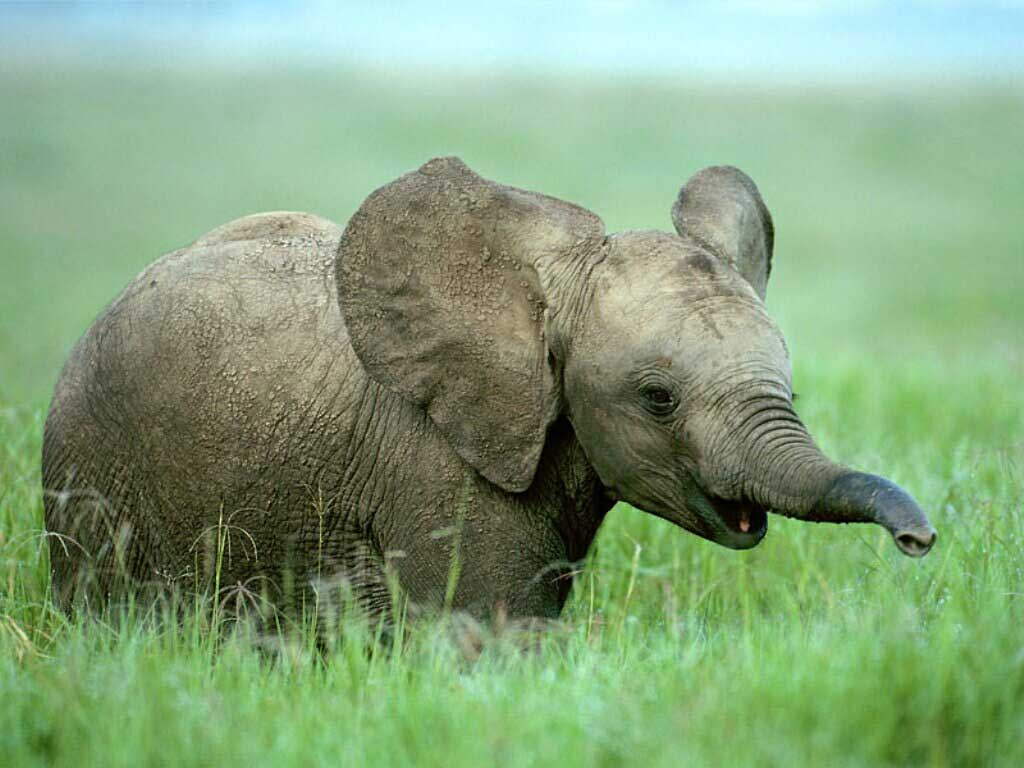africanelephant: (420, 187, 953, 570)
